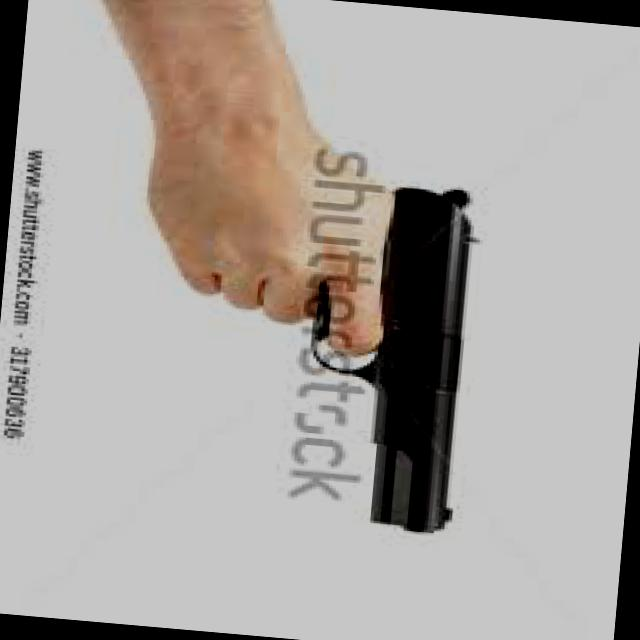handgun: (273, 162, 484, 536)
